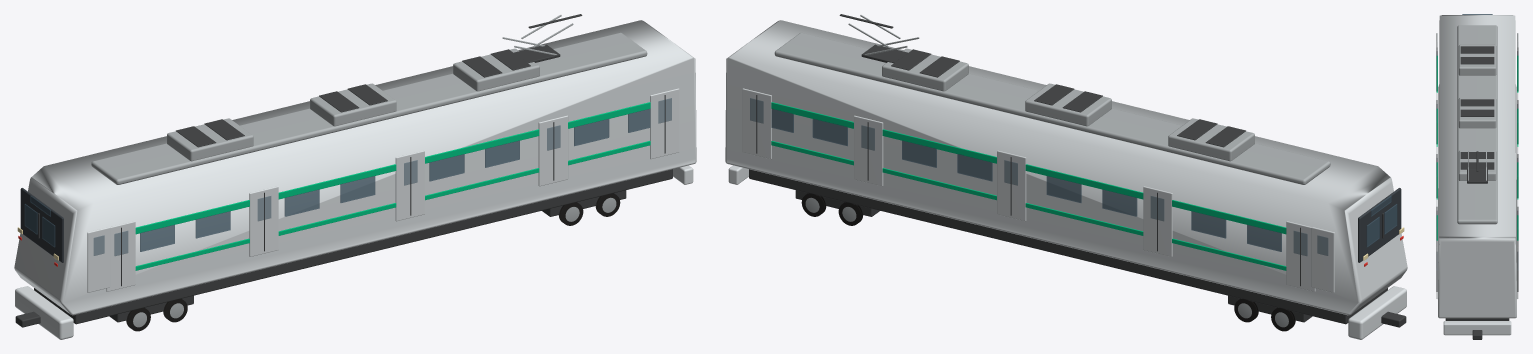
The model's file is modern_commuter_e235_like_prototype_20260623.fbx.
3 views of the same model, side by side, from view 1: azimuth 30°, elevation 25°; view 2: azimuth 150°, elevation 25°; view 3: azimuth 270°, elevation 25° (orthographic). The views are drawn at different scales.
Parts seen in each view (by area): view 1: BODY_tapered_one_car_shell, ROOF_smooth_duct, UNDERFRAME_main, SIDE_L_green_upper_band, SIDE_L_green_lower_band, SIDE_L_door_panel_03, FRONT_black_display_mask, SIDE_L_door_panel_04, SIDE_L_door_panel_02, SIDE_L_door_panel_01, ROOF_ac_unit_1, ROOF_ac_unit_0 (+11 smaller); view 2: BODY_tapered_one_car_shell, ROOF_smooth_duct, UNDERFRAME_main, SIDE_R_green_upper_band, SIDE_R_green_lower_band, SIDE_R_door_panel_03, FRONT_black_display_mask, SIDE_R_door_panel_04, SIDE_R_door_panel_02, SIDE_R_door_panel_01, ROOF_ac_unit_1, ROOF_ac_unit_0 (+11 smaller); view 3: BODY_tapered_one_car_shell, ROOF_smooth_duct, REAR_skirt, ROOF_ac_unit_0, ROOF_ac_unit_1, ROOF_ac_unit_2, ROOF_pantograph_base, ROOF_ac_grille_0_A, SIDE_L_green_upper_band, SIDE_R_green_upper_band, ROOF_ac_grille_0_B, ROOF_ac_grille_1_A (+15 smaller).
Part boxes in pixels (box(x1,y1,x2,y2)): BODY_tapered_one_car_shell: box(14, 20, 696, 315); ROOF_smooth_duct: box(91, 32, 647, 184); UNDERFRAME_main: box(34, 169, 672, 324); SIDE_L_green_upper_band: box(135, 102, 650, 234); SIDE_L_green_lower_band: box(135, 141, 650, 270); SIDE_L_door_panel_03: box(538, 115, 568, 186); FRONT_black_display_mask: box(20, 188, 63, 262); SIDE_L_door_panel_04: box(650, 88, 679, 159); SIDE_L_door_panel_02: box(395, 150, 424, 221); SIDE_L_door_panel_01: box(249, 186, 278, 256); ROOF_ac_unit_1: box(310, 83, 396, 126); ROOF_ac_unit_0: box(167, 118, 253, 161); BODY_tapered_one_car_shell: box(725, 20, 1407, 315); ROOF_smooth_duct: box(774, 32, 1330, 184); UNDERFRAME_main: box(749, 169, 1387, 324); SIDE_R_green_upper_band: box(771, 102, 1286, 234); SIDE_R_green_lower_band: box(771, 141, 1286, 270); SIDE_R_door_panel_03: box(853, 115, 883, 186); FRONT_black_display_mask: box(1358, 188, 1401, 262); SIDE_R_door_panel_04: box(742, 88, 771, 159); SIDE_R_door_panel_02: box(997, 150, 1026, 221); SIDE_R_door_panel_01: box(1143, 186, 1172, 256); ROOF_ac_unit_1: box(1025, 83, 1111, 126); ROOF_ac_unit_0: box(1168, 118, 1254, 161); BODY_tapered_one_car_shell: box(1438, 15, 1516, 318); ROOF_smooth_duct: box(1457, 25, 1497, 224); REAR_skirt: box(1443, 321, 1511, 335); ROOF_ac_unit_0: box(1458, 44, 1496, 75); ROOF_ac_unit_1: box(1458, 97, 1496, 128); ROOF_ac_unit_2: box(1458, 150, 1496, 180); ROOF_pantograph_base: box(1467, 169, 1487, 183); ROOF_ac_grille_0_A: box(1460, 46, 1494, 53); SIDE_L_green_upper_band: box(1436, 55, 1437, 240); SIDE_R_green_upper_band: box(1517, 55, 1518, 240); ROOF_ac_grille_0_B: box(1460, 57, 1494, 64); ROOF_ac_grille_1_A: box(1460, 99, 1494, 106).
Bounding box in the file's own units: 2098 × 566 × 297.
